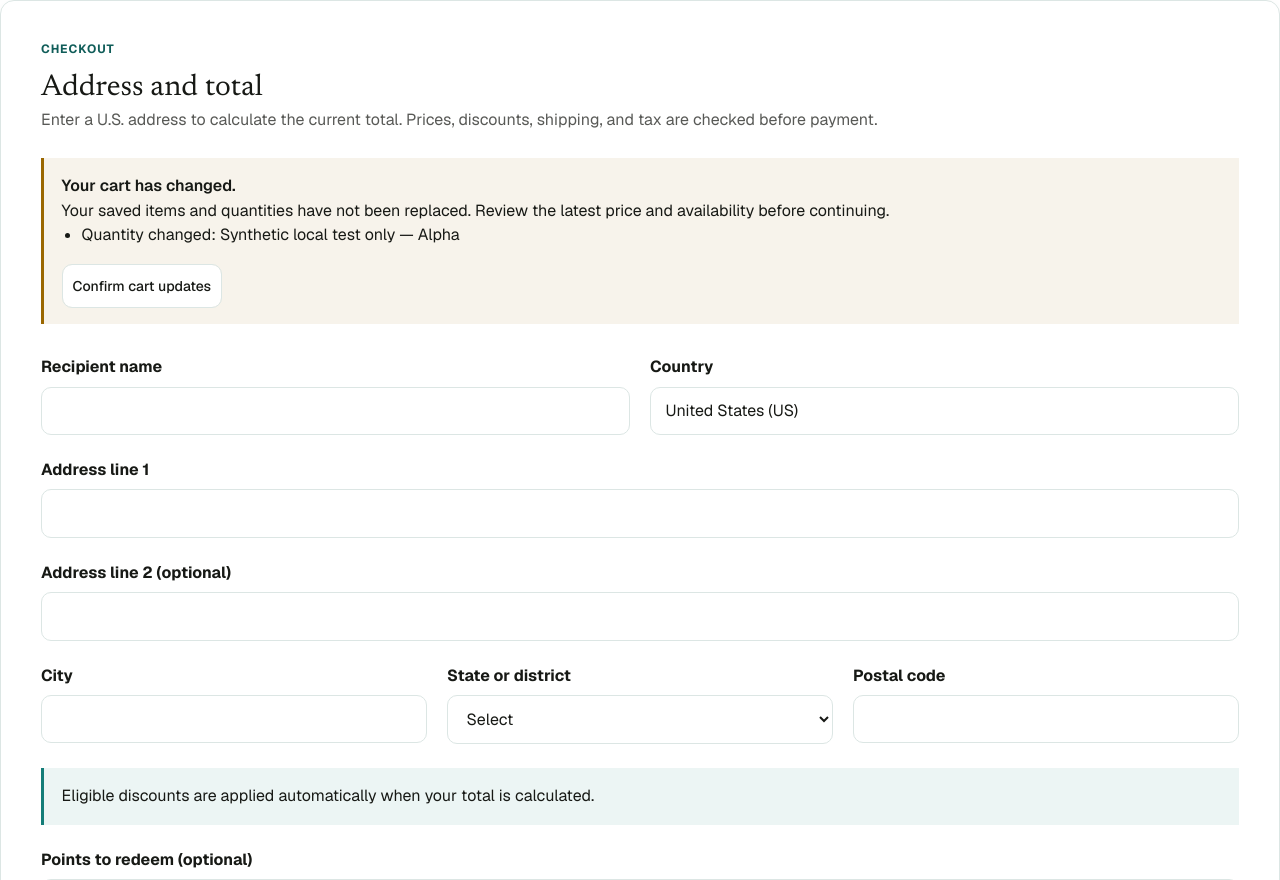
Test: CheckoutForm › ignores an aborted obsolete preview that resolves after the newer retained facts
The width and height of the screenshot is (1280, 880).
expect the heading "Your cart has changed." is shown: met, box top-left (62, 175), bottom-right (236, 196)
Click the button "Confirm cart updates" at (142, 286), box top-left (62, 264), bottom-right (222, 308)
(page scrolled)
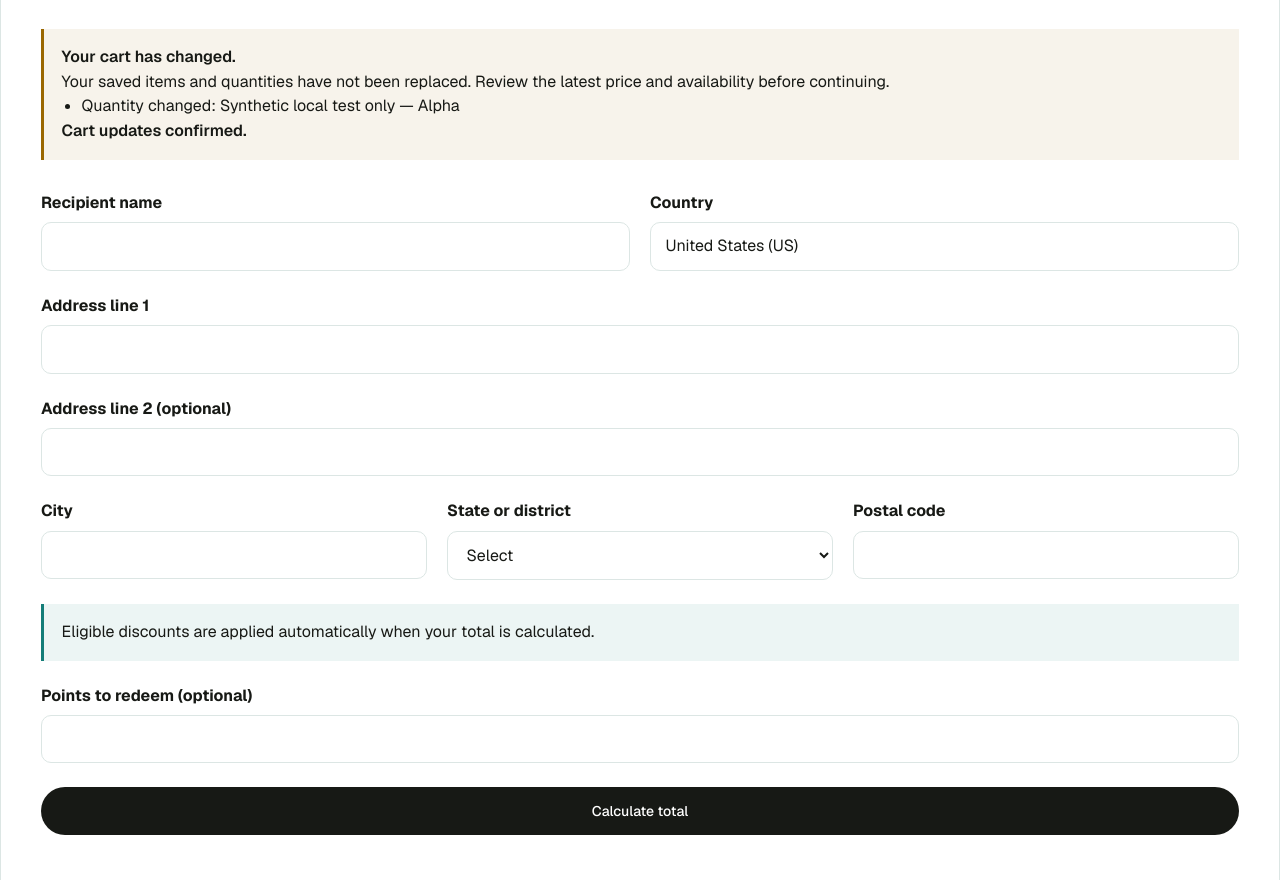
expect the text "Cart updates confirmed." is shown: met, box top-left (62, 120), bottom-right (246, 141)
expect the button "Calculate total" is enabled: met, box top-left (41, 787), bottom-right (1239, 835)
